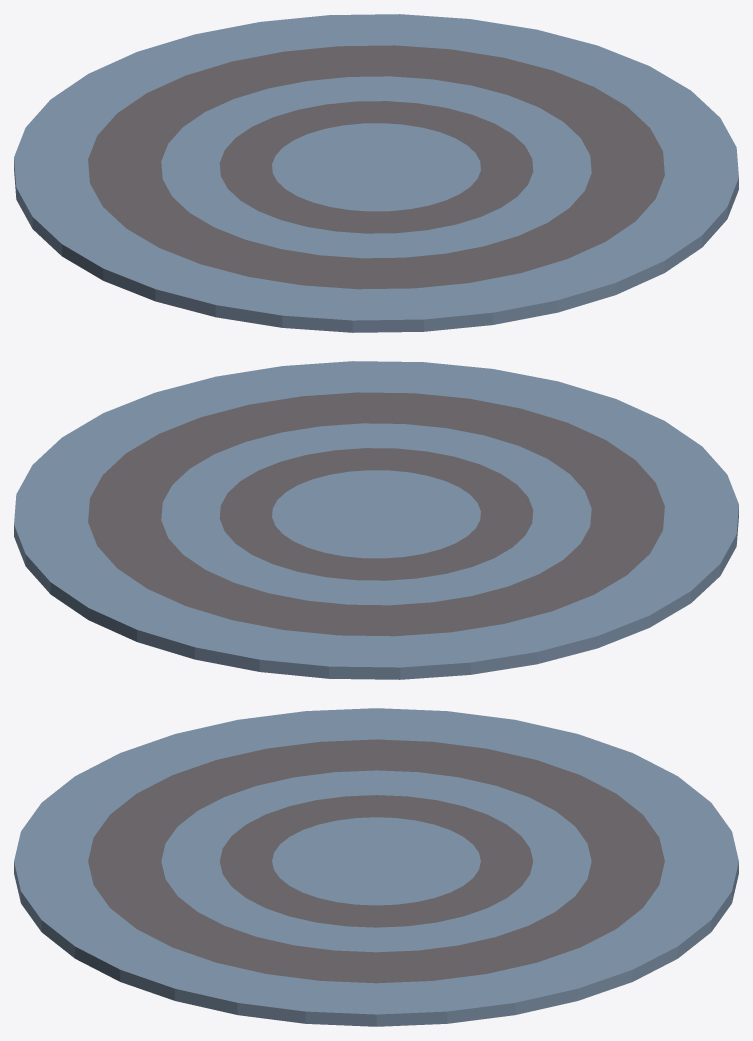
The model's file is Alfombra.fbx.
The picture shows the model from 3 angles, top to bottom: view 1: azimuth 30°, elevation 25°; view 2: azimuth 150°, elevation 25°; view 3: azimuth 270°, elevation 25°; orthographic projection.
Parts seen in each view (by area): view 1: Alfombra; view 2: Alfombra; view 3: Alfombra.
Boxes of the visible parts, bbox=[...] form: Alfombra: bbox=[14, 14, 738, 332]; Alfombra: bbox=[14, 361, 738, 679]; Alfombra: bbox=[14, 708, 738, 1026].
Size of the model in its own units: 268 by 268 by 5.
